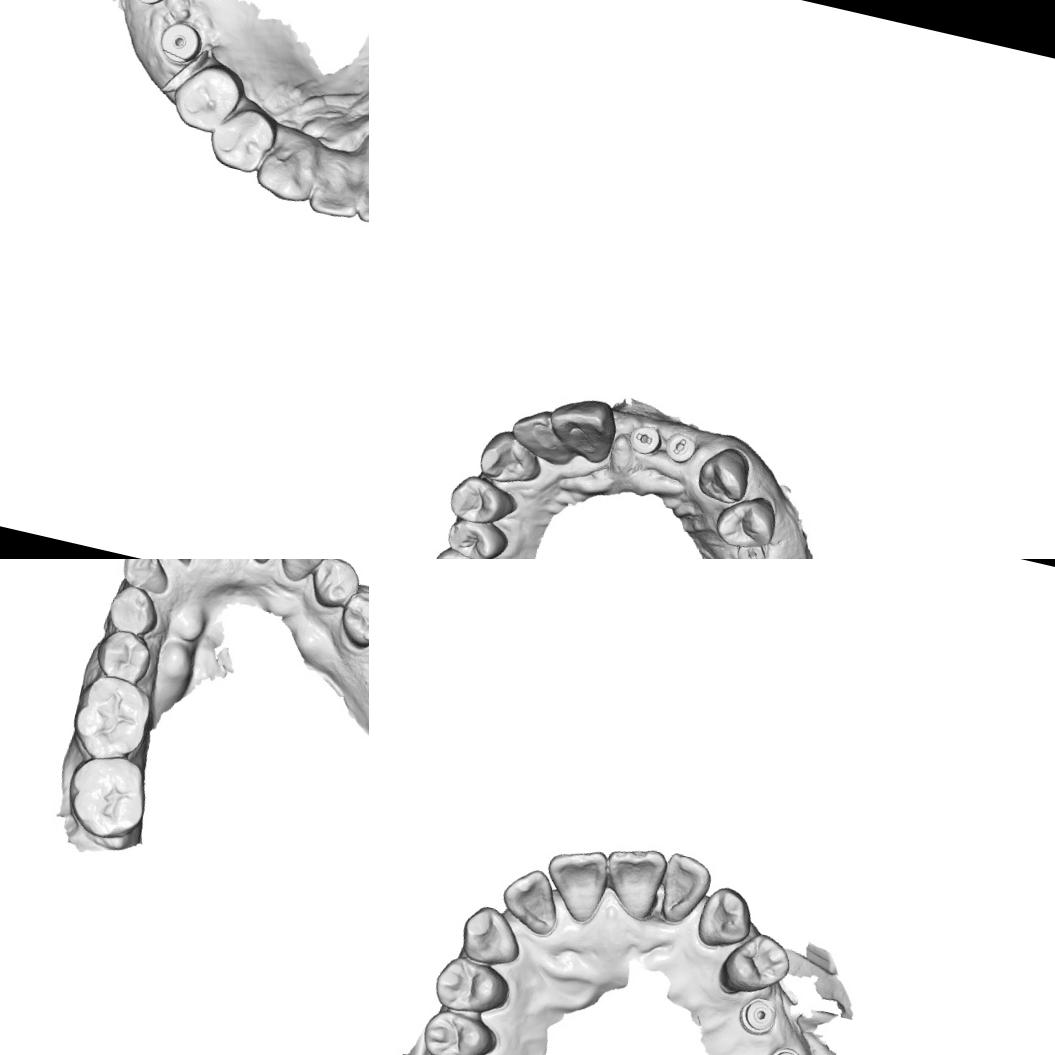canine: (252, 121, 326, 205), (455, 902, 529, 972), (476, 425, 548, 491), (693, 882, 759, 954), (693, 442, 755, 506), (116, 559, 176, 597), (274, 559, 330, 587)
implant: (154, 18, 207, 70), (734, 993, 781, 1041), (761, 1040, 808, 1055)
implant_minus: (626, 421, 666, 458), (662, 428, 700, 466), (733, 539, 768, 559)
incisor: (536, 840, 614, 928), (594, 839, 671, 924), (542, 390, 622, 466), (494, 863, 567, 940), (651, 850, 716, 931), (305, 142, 369, 222), (505, 404, 578, 467), (346, 132, 369, 233)
molar: (58, 745, 156, 848), (65, 668, 157, 769), (422, 542, 515, 559)
premolar: (166, 53, 249, 139), (203, 96, 283, 178), (714, 926, 796, 1006), (430, 951, 516, 1021), (445, 470, 520, 531), (712, 488, 780, 554), (418, 1004, 502, 1055), (91, 625, 156, 686), (104, 580, 165, 640), (305, 559, 365, 614), (442, 512, 512, 559), (335, 585, 369, 653)
